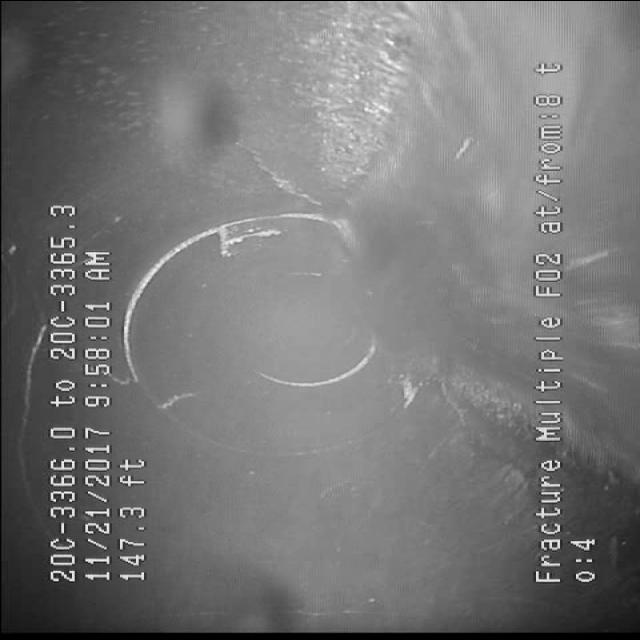Fracture: (216, 129, 333, 197)
